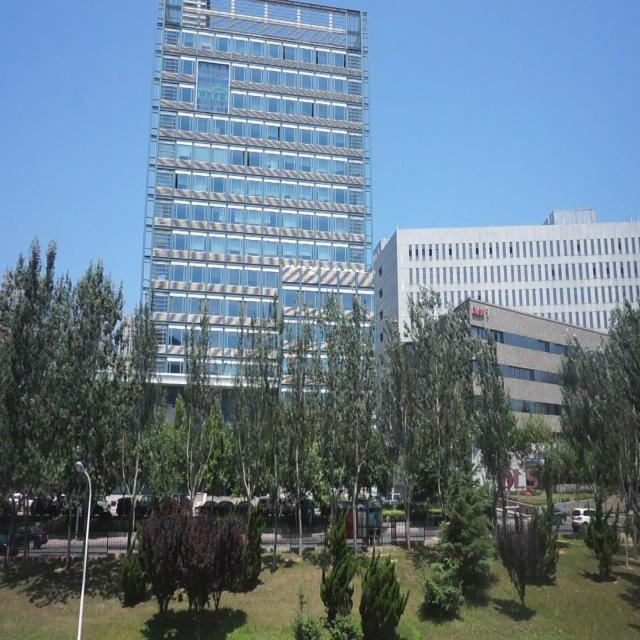UAV: (283, 353, 298, 363)
